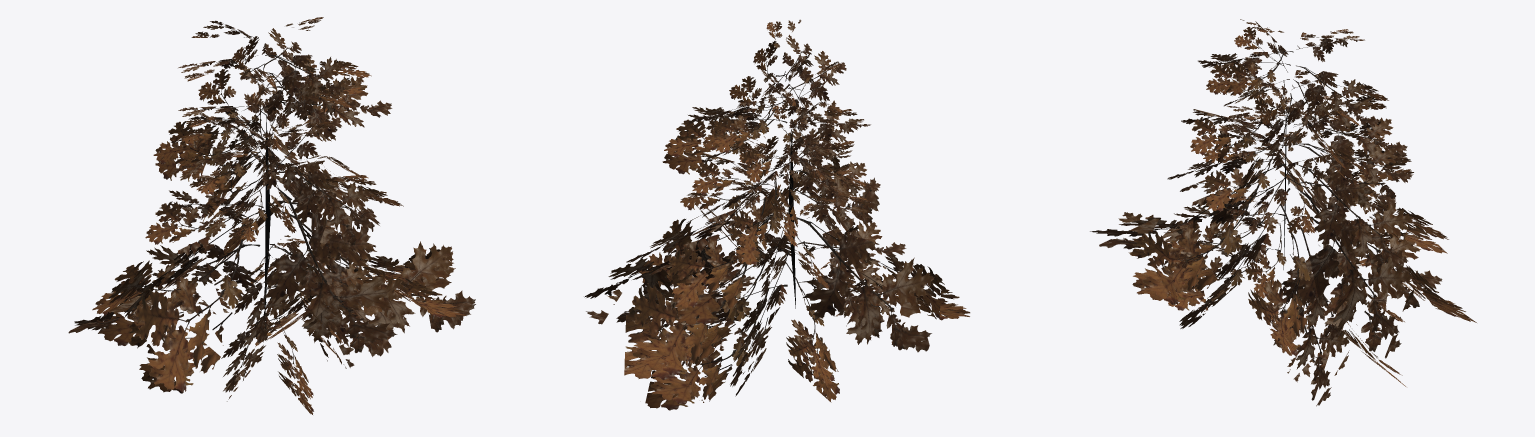
The model's file is spruce5 lod4.FBX.
The picture shows the model from 3 angles, left to right: view 1: azimuth 30°, elevation 25°; view 2: azimuth 150°, elevation 25°; view 3: azimuth 270°, elevation 25°; orthographic projection. The views are drawn at different scales.
Visible parts, largest first — view 1: spruce5_LOD4; view 2: spruce5_LOD4; view 3: spruce5_LOD4.
Part boxes in pixels (x1,y1,x2,y2): spruce5_LOD4: (68,17,475,414); spruce5_LOD4: (584,19,970,410); spruce5_LOD4: (1090,19,1476,406).
Size of the model in its own units: 130413 by 112686 by 136959.
